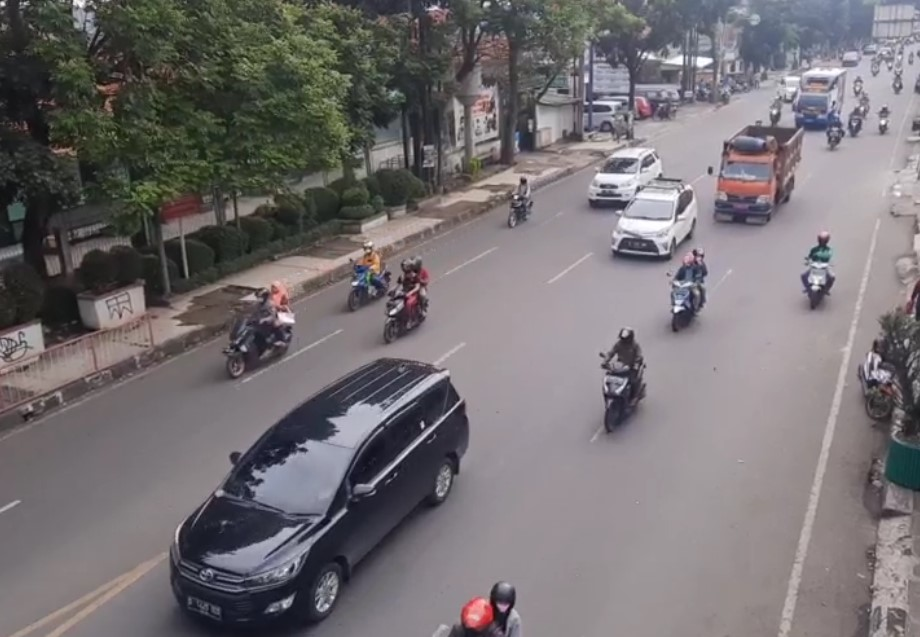motor: (213, 282, 303, 376), (592, 326, 653, 439), (382, 257, 436, 341), (664, 249, 715, 333), (797, 230, 839, 315), (342, 243, 394, 308), (500, 174, 539, 230)
